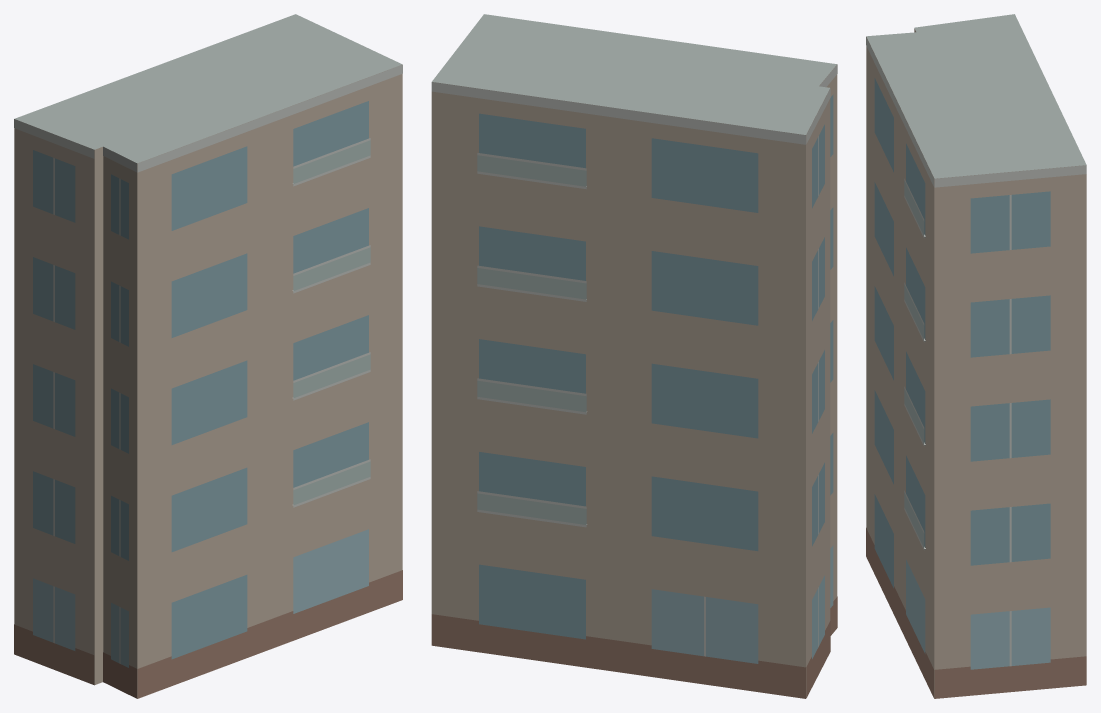
The model's file is survey-upis-32457789.glb.
3 views of the same model, side by side, from view 1: azimuth 30°, elevation 25°; view 2: azimuth 150°, elevation 25°; view 3: azimuth 270°, elevation 25° (orthographic). The views are drawn at different scales.
Visible parts, largest first — view 1: survey-upis-32457789.tmp; view 2: survey-upis-32457789.tmp; view 3: survey-upis-32457789.tmp.
Part boxes in pixels (x1,y1,x2,y2): survey-upis-32457789.tmp: (14, 14, 402, 698); survey-upis-32457789.tmp: (431, 14, 837, 698); survey-upis-32457789.tmp: (866, 14, 1086, 698).
Bounding box in the file's own units: 9.58 × 14.1 × 5.43.
